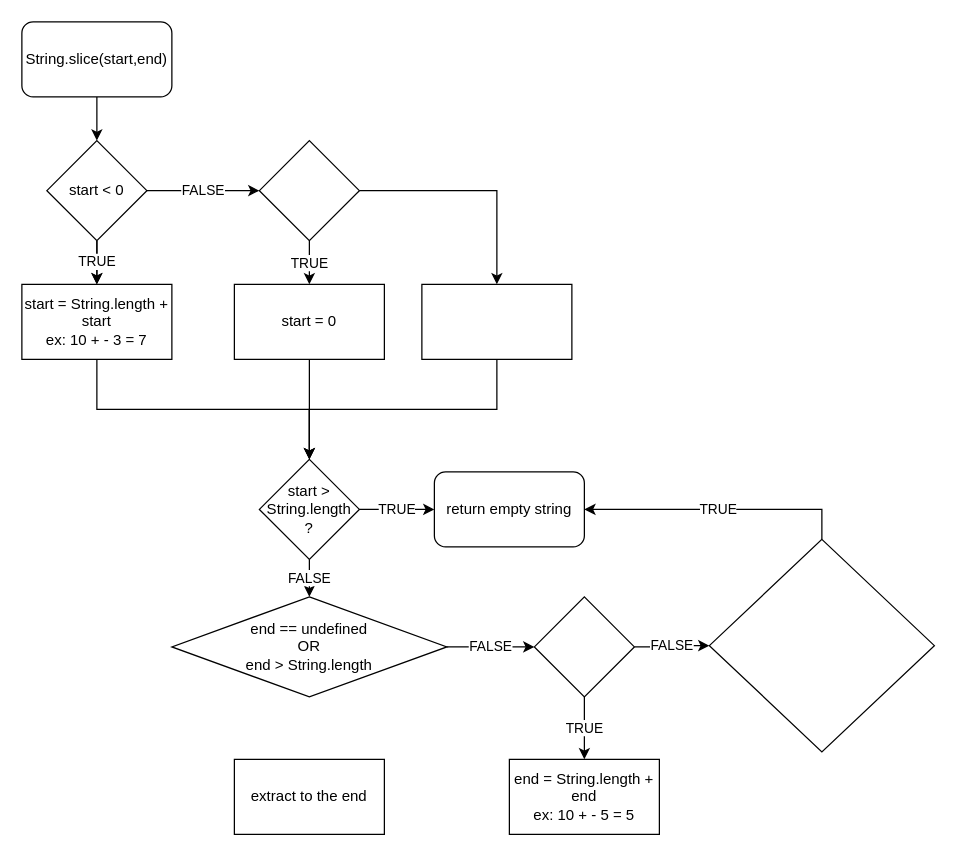
Some shapes in this 956 by 856 pixel diagram are drawn without their labels. Here are the shapes that lost their labels. From the top down, the box of each, then its label:
(258, 139, 359, 241): Number(start) isNaN?
(421, 283, 572, 359): start = start
(533, 596, 634, 697): end < 0
(708, 538, 934, 752): Number(end) != undefined && isNaN(Number(end)) == FALSE
